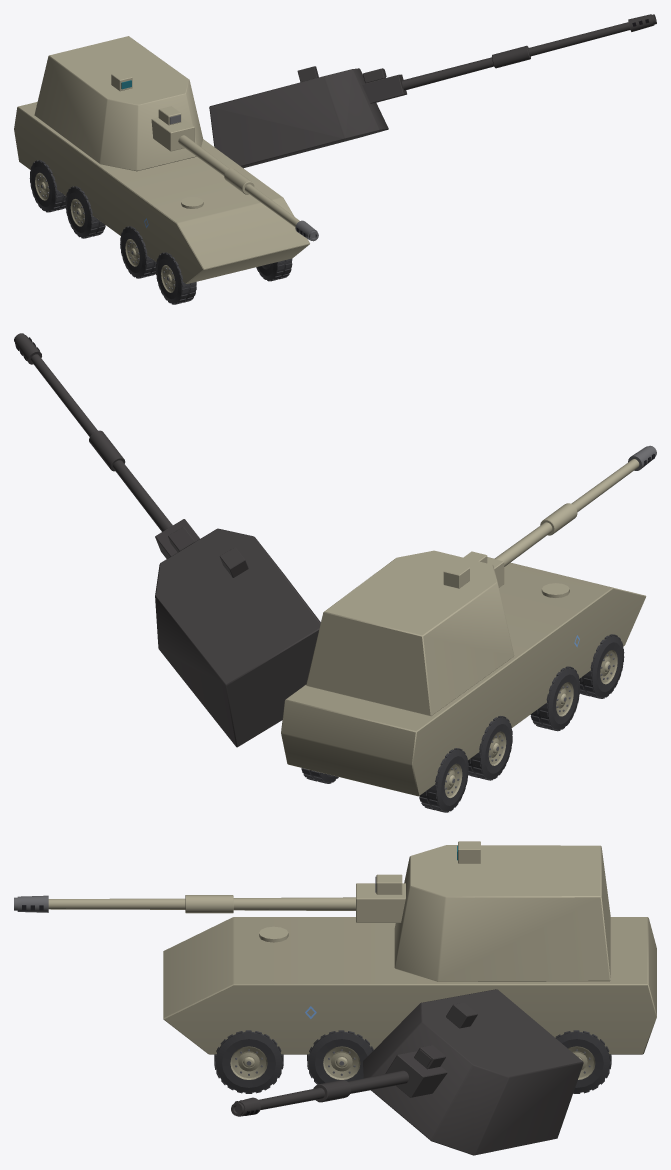
The model's file is wheeledHowitzer__rch_155.glb.
The picture shows the model from 3 angles, top to bottom: view 1: azimuth 30°, elevation 25°; view 2: azimuth 150°, elevation 25°; view 3: azimuth 270°, elevation 25°; orthographic projection. The views are drawn at different scales.
Visible parts, largest first — view 1: Hull_Mesh, Wreck, Turret_Mesh, Gun_Mesh, Wheel_L3_Mesh, Wheel_L1_Mesh, Wheel_L2_Mesh, Wheel_L0_Mesh, Wheel_R3_Mesh; view 2: Hull_Mesh, Wreck, Turret_Mesh, Gun_Mesh, Wheel_L2_Mesh, Wheel_L0_Mesh, Wheel_L1_Mesh, Wheel_L3_Mesh; view 3: Hull_Mesh, Turret_Mesh, Wreck, Gun_Mesh, Wheel_R3_Mesh, Wheel_R2_Mesh, Wheel_R0_Mesh.
Boxes of the visible parts, x1,y1,x2,y2 form: Hull_Mesh: (14,102,309,283); Wreck: (42,14,656,303); Turret_Mesh: (34,36,202,171); Gun_Mesh: (151,106,318,241); Wheel_L3_Mesh: (156,252,196,304); Wheel_L1_Mesh: (65,186,105,238); Wheel_L2_Mesh: (120,226,156,278); Wheel_L0_Mesh: (29,160,66,212); Wheel_R3_Mesh: (256,258,292,281); Hull_Mesh: (281,557,646,796); Wreck: (14,333,617,811); Turret_Mesh: (306,550,514,715); Gun_Mesh: (463,445,656,587); Wheel_L2_Mesh: (530,666,580,731); Wheel_L0_Mesh: (419,748,468,812); Wheel_L1_Mesh: (467,716,512,780); Wheel_L3_Mesh: (579,634,624,698); Hull_Mesh: (163,917,656,1054); Turret_Mesh: (394,841,610,981); Wreck: (221,989,585,1155); Gun_Mesh: (14,874,405,922); Wheel_R3_Mesh: (214,1030,283,1093); Wheel_R2_Mesh: (307,1030,373,1084); Wheel_R0_Mesh: (555,1030,611,1093).
Size of what is drawn, in the model's own units: 11.79 by 4.04 by 10.4.
